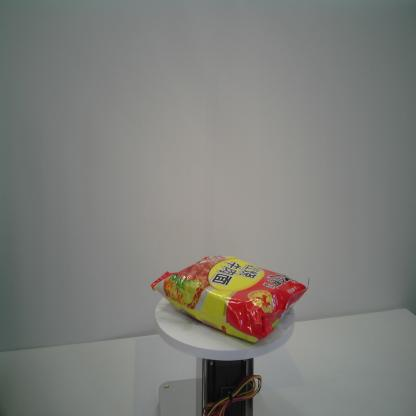Instant Noodles: (151, 254, 310, 342)
